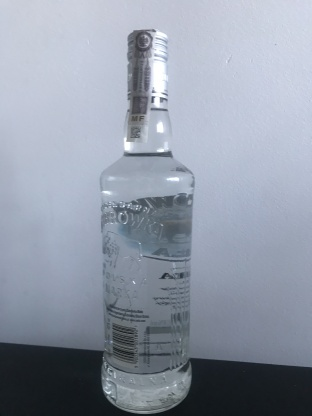nakretka: (124, 23, 170, 105)
